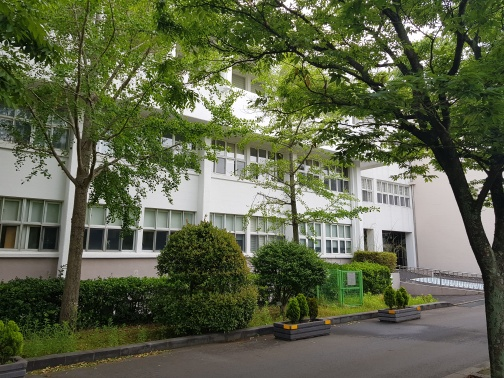Main Building of University: (12, 57, 480, 284)
